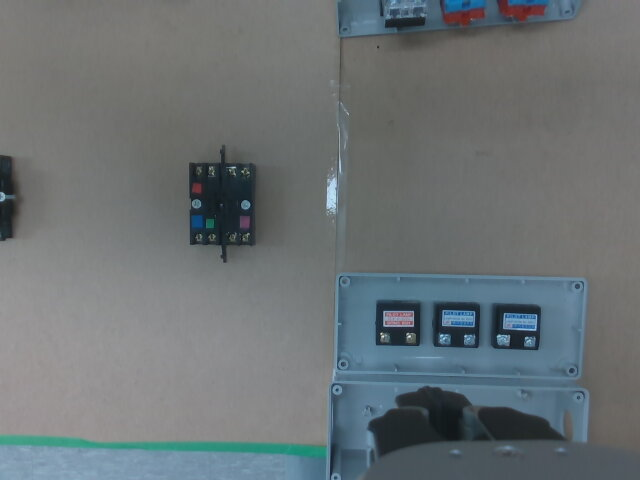L1(1): (380, 331, 391, 343)
L1(2): (405, 332, 416, 344)
L2(1): (439, 333, 451, 345)
L2(2): (464, 334, 475, 345)
L3(1): (499, 335, 510, 346)
L3(2): (524, 336, 536, 347)
